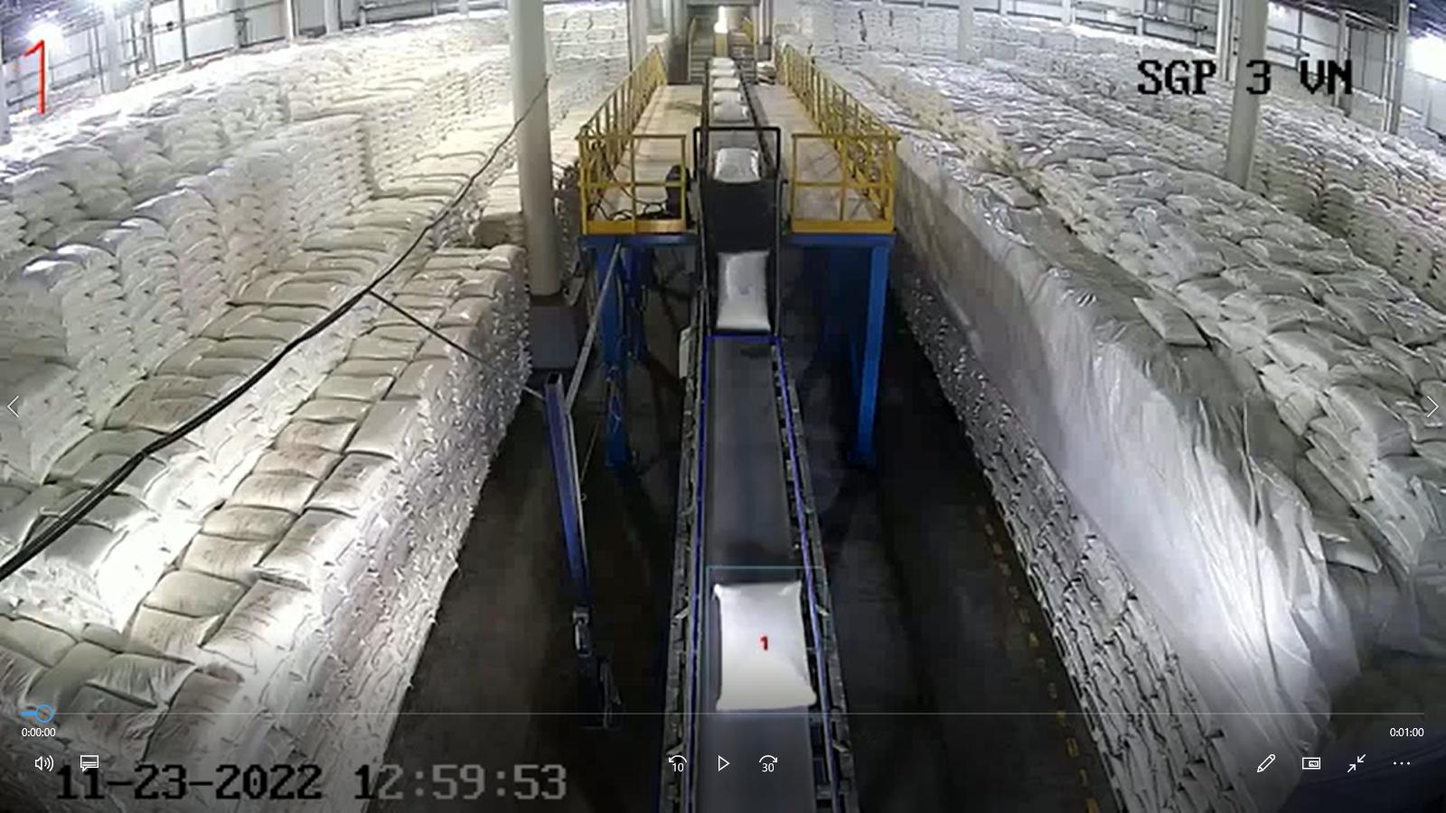rice-bag: (714, 580, 815, 711), (715, 251, 772, 332), (710, 147, 761, 182)
